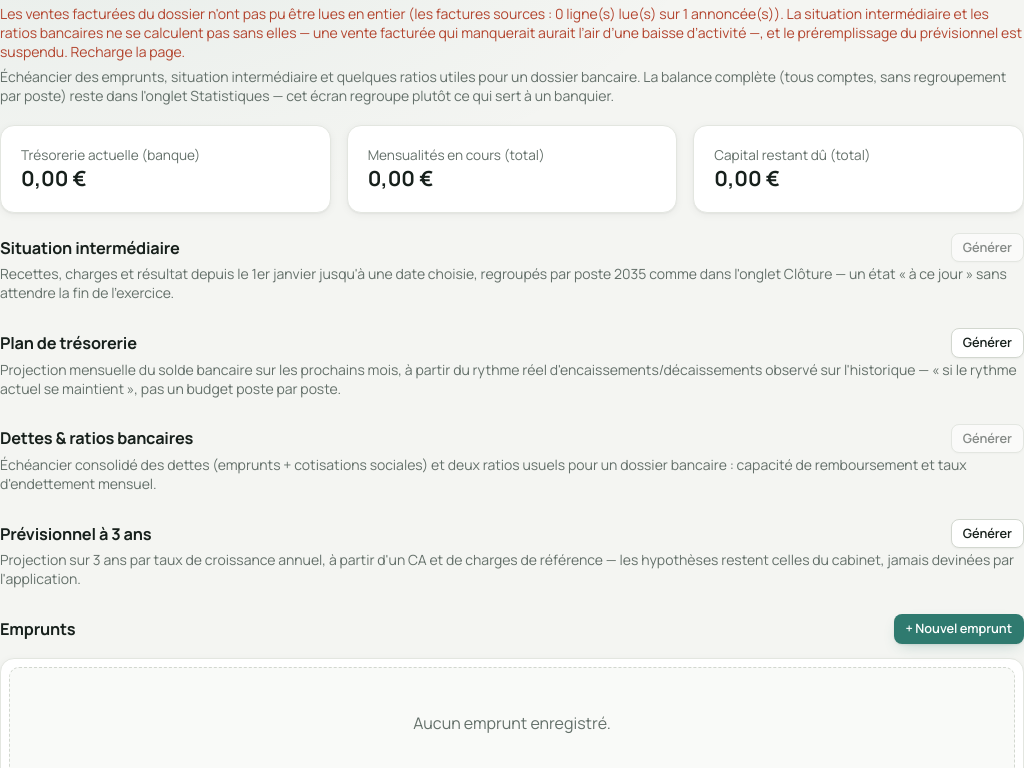
Scenario: FinancementTab — sans les ventes facturées entières, aucun chiffre de situation › lue en partie (factures_emises) : le bandeau, ni situation ni ratios, le préremplissage suspendu
Expected: the text "Les ventes facturées du dossier n.ont pas pu être lues en entier" is shown, x1=0 y1=4 x2=1023 y2=61
Expected: the 1st button "Générer" is disabled, x1=951 y1=233 x2=1023 y2=262
Click the button "Générer" in the row of "Prévisionnel à 3 ans".
click(987, 534)  # box x1=951 y1=519 x2=1023 y2=548
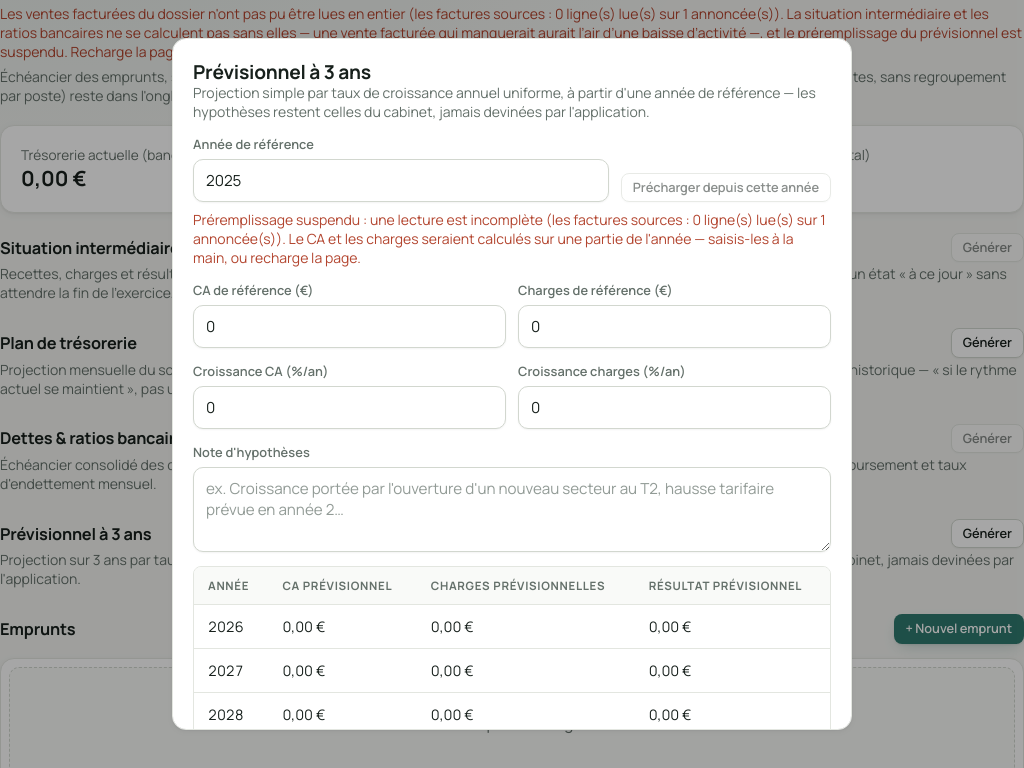
Expected: the button "Précharger depuis cette année" is disabled, x1=621 y1=173 x2=831 y2=202
Expected: the text "Préremplissage suspendu : une lecture est incomplète" is shown, x1=193 y1=210 x2=552 y2=229
